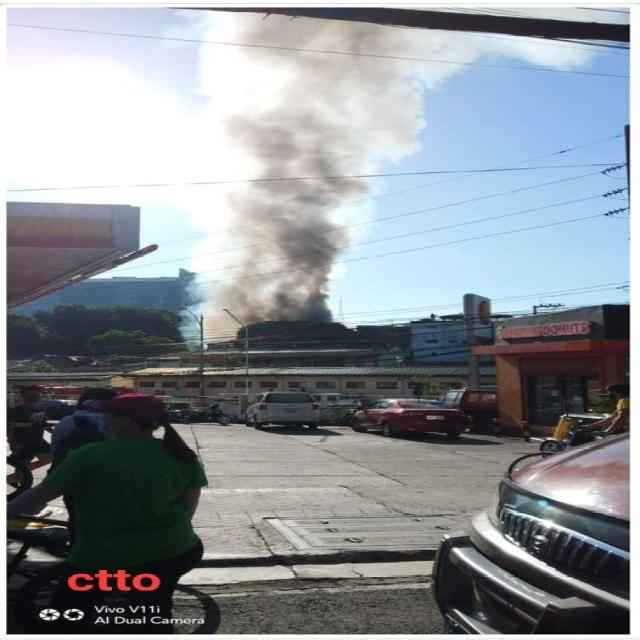Smoke: (194, 14, 429, 323)
